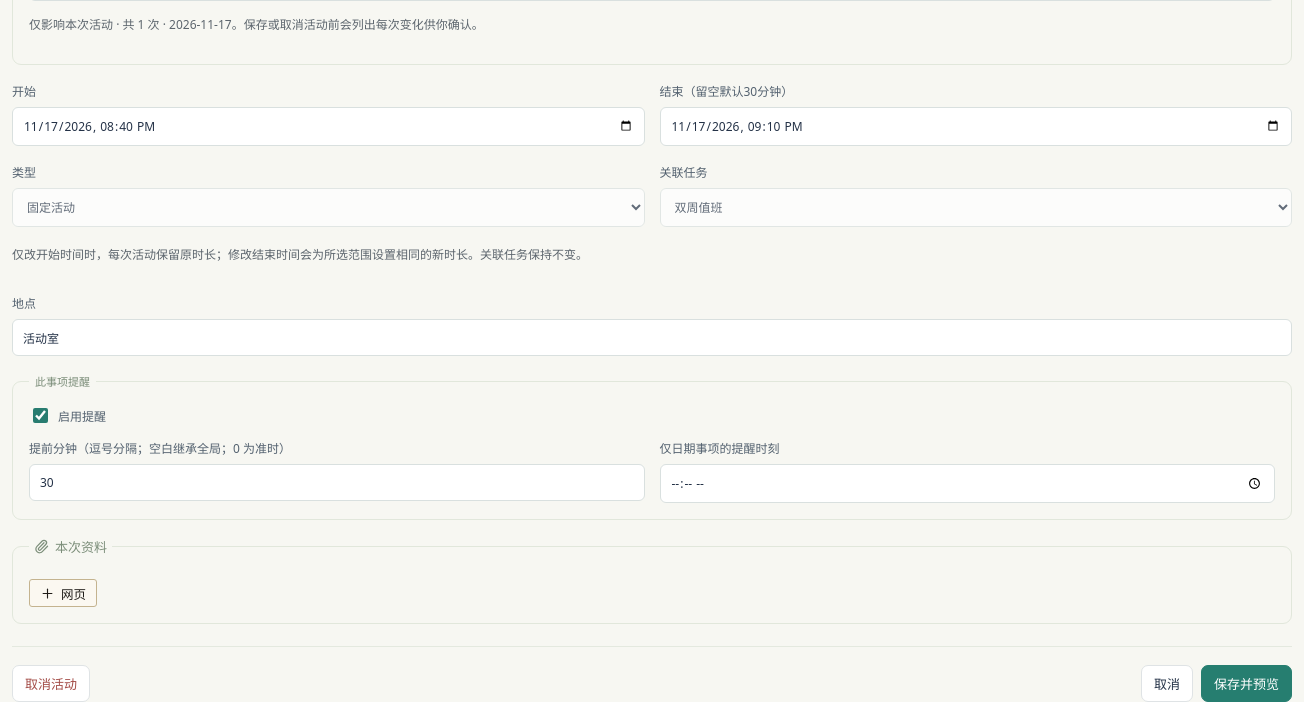
Test: recurring activity scope editor › keeps unmodified activity input open without sending an empty mutation
(page scrolled)
Click the button "保存并预览": x=1246, y=684 [1201,665,1292,701]
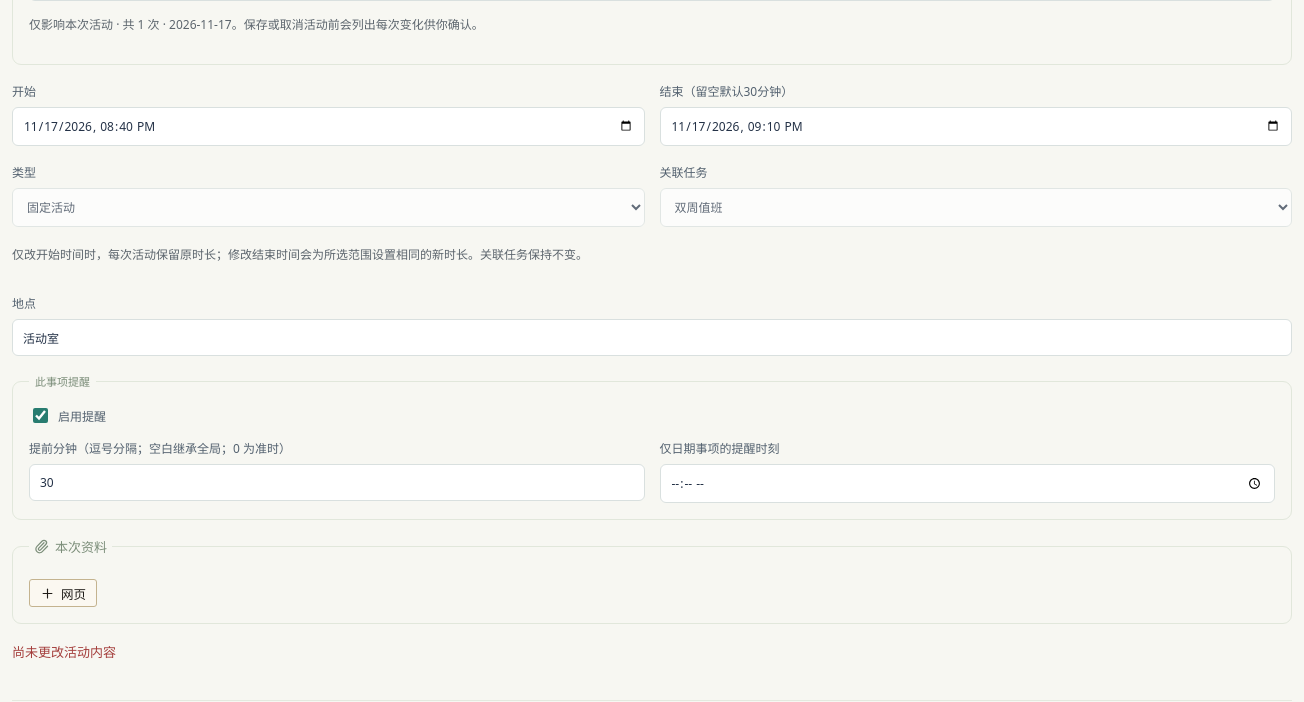
Now the message "尚未更改活动内容" is shown, box [12,643,116,661]
